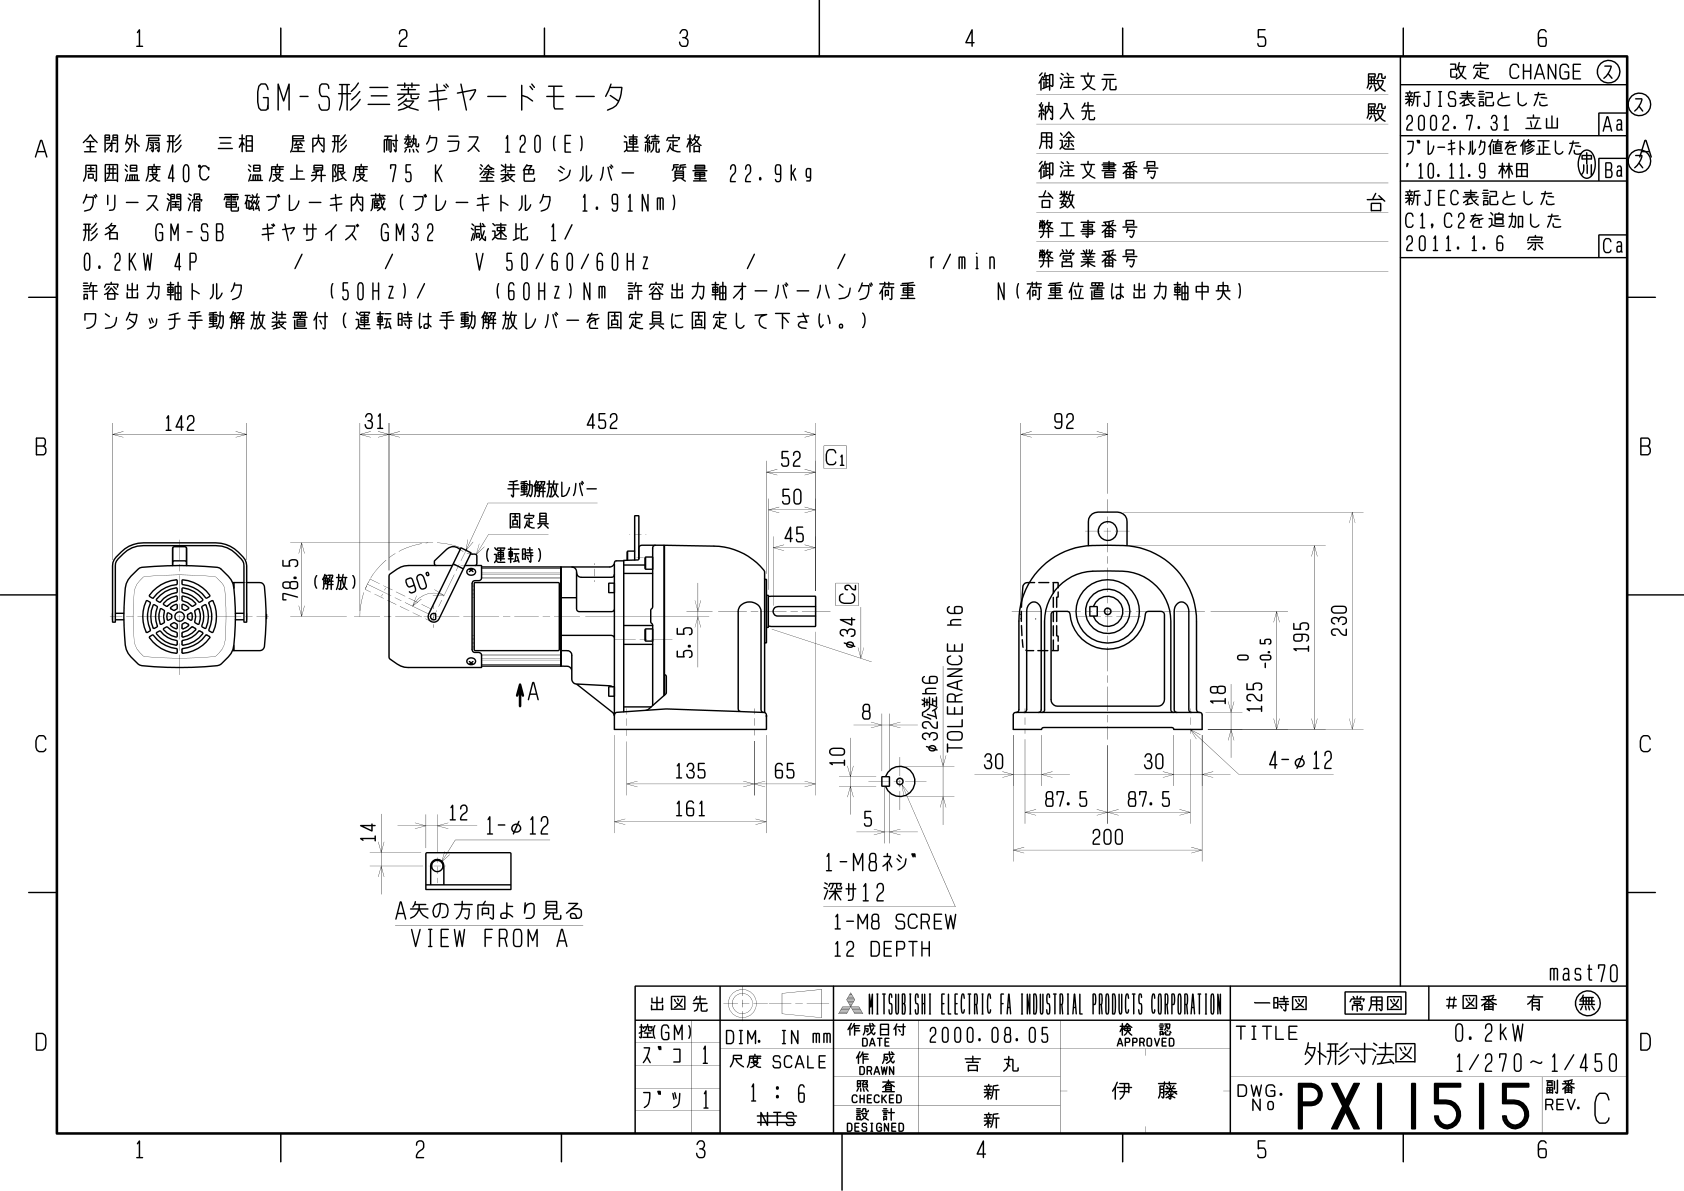GM_S_手動ブレーキ＿三相_脚: (77, 360, 1383, 978)
